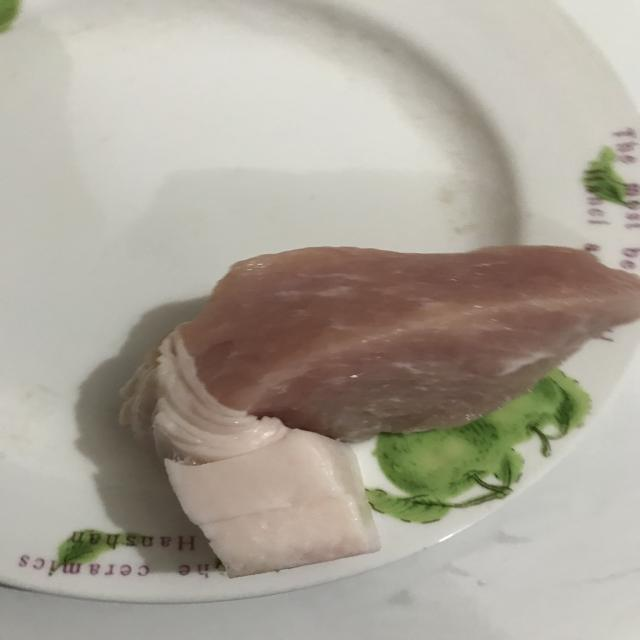chicken: (136, 246, 640, 570)
